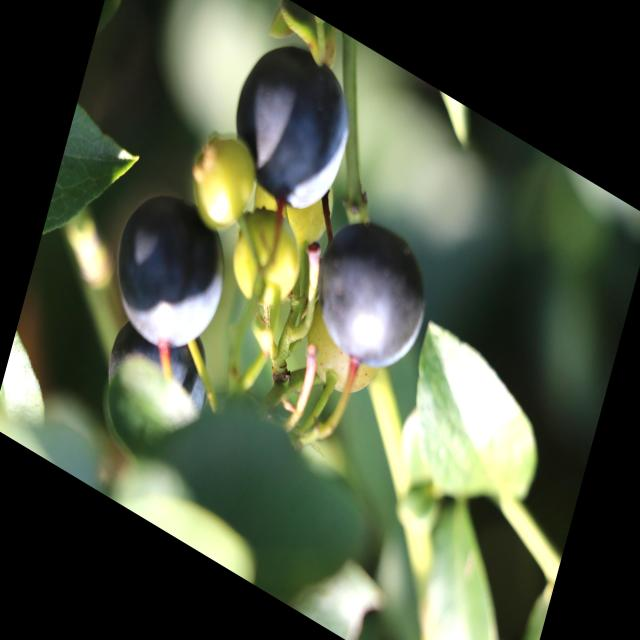blueberry: (215, 9, 371, 237), (95, 167, 242, 381), (298, 192, 445, 399), (95, 287, 223, 457)
blueberry-unripe: (222, 196, 308, 326), (181, 123, 267, 250), (292, 299, 386, 413)
